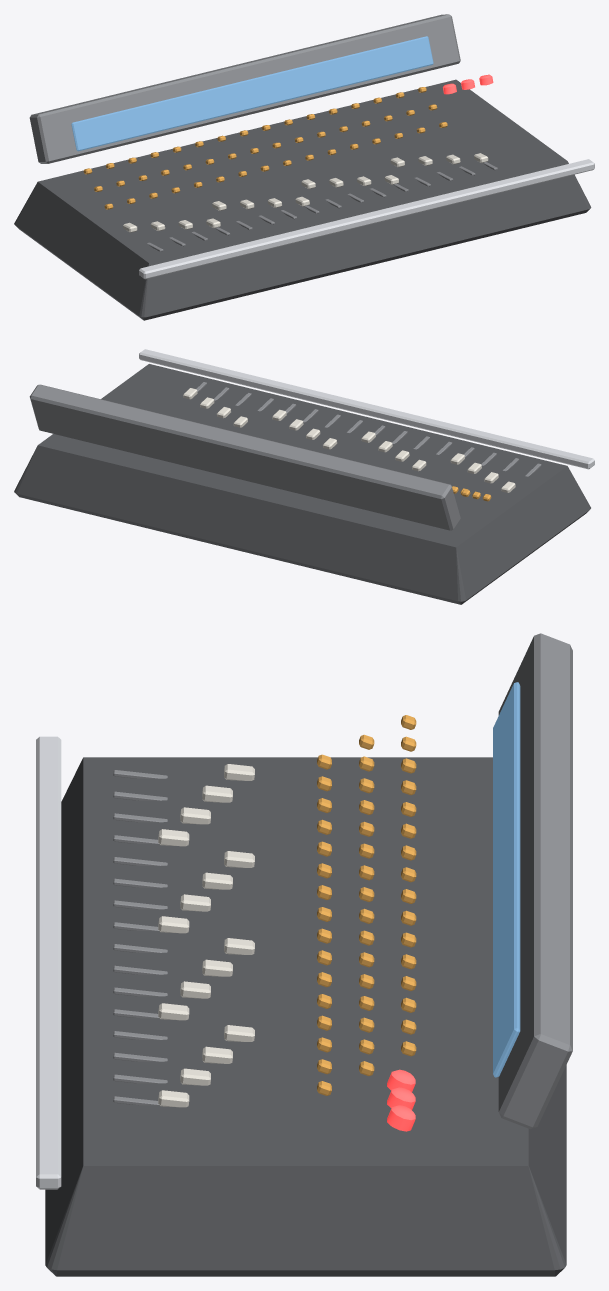
Rendered from 35514_Gallery_Sound_Desk__TV_Studio_and_Broadcast_Gallery_.glb.
The picture shows the model from 3 angles, top to bottom: view 1: azimuth 30°, elevation 25°; view 2: azimuth 150°, elevation 25°; view 3: azimuth 270°, elevation 25°; orthographic projection. The views are drawn at different scales.
Visible parts, largest first — view 1: sound-desk; view 2: sound-desk; view 3: sound-desk.
Boxes of the visible parts, left/top/right/bottom form: sound-desk: left=14, top=14, right=594, bottom=320; sound-desk: left=14, top=349, right=594, bottom=604; sound-desk: left=36, top=633, right=572, bottom=1276.
Size of the model in its own units: 1.24 by 0.298 by 0.6384.
